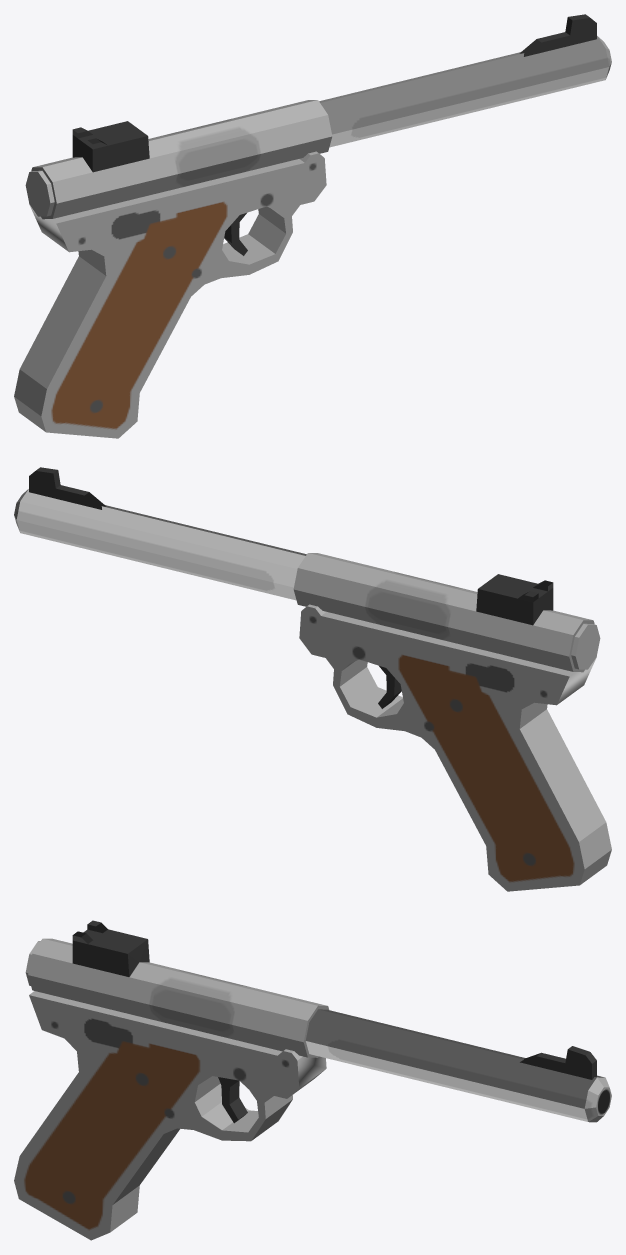
Rendered from MARK IV.FBX.
3 renders of one model, top to bottom at view 1: azimuth 30°, elevation 25°; view 2: azimuth 150°, elevation 25°; view 3: azimuth 330°, elevation 25°, orthographic.
Visible parts, largest first — view 1: MARK IV; view 2: MARK IV; view 3: MARK IV.
Boxes of the visible parts, left/top/right/bottom form: MARK IV: left=14, top=14, right=611, bottom=438; MARK IV: left=14, top=467, right=611, bottom=891; MARK IV: left=14, top=920, right=611, bottom=1240.
Bounding box in the file's own units: 31.16 × 15.36 × 2.69.
